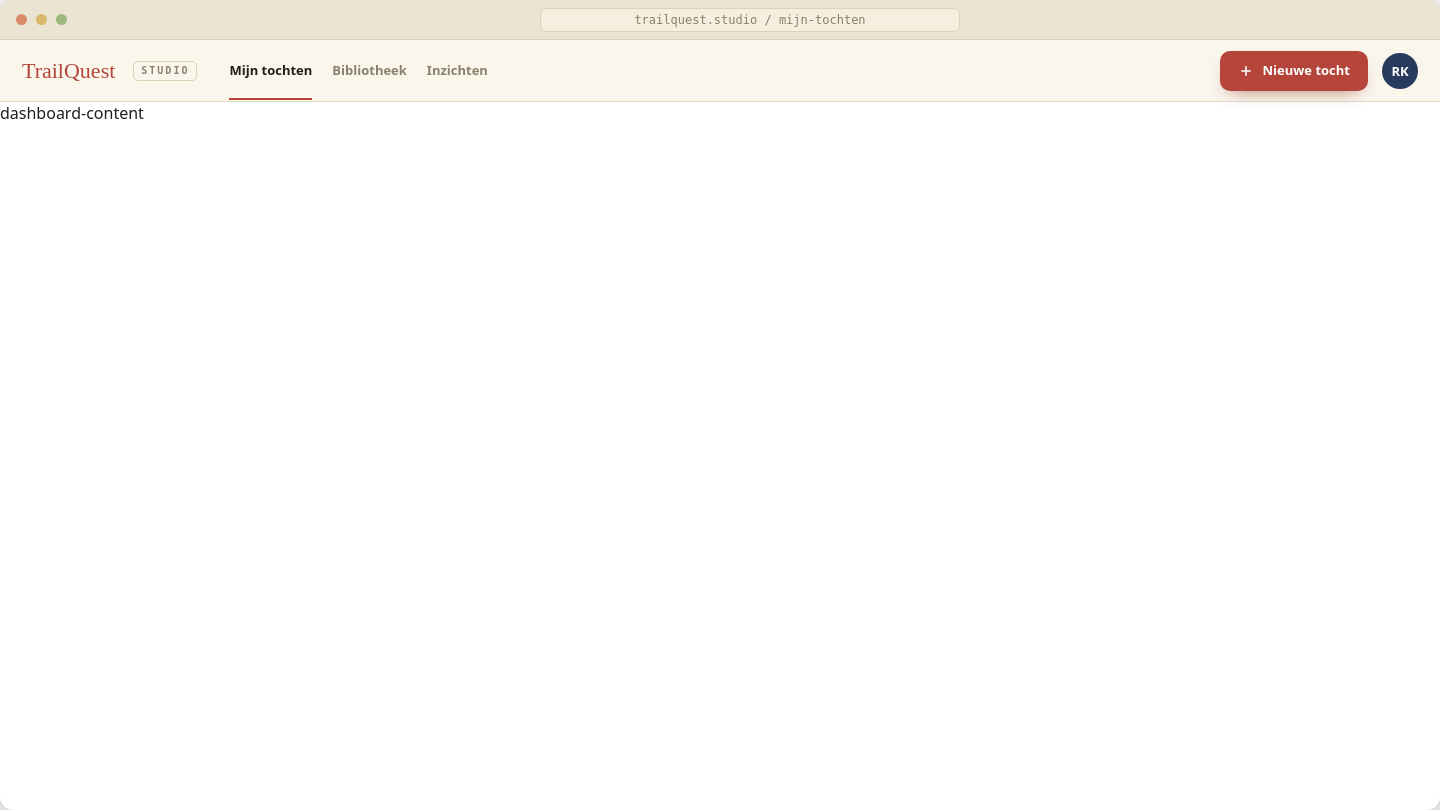
it: clicking Nieuwe tocht opens the NewTrailForm with Plaats input
Click the button "Nieuwe tocht". click: (1294, 70)
box: [1220, 50, 1368, 90]
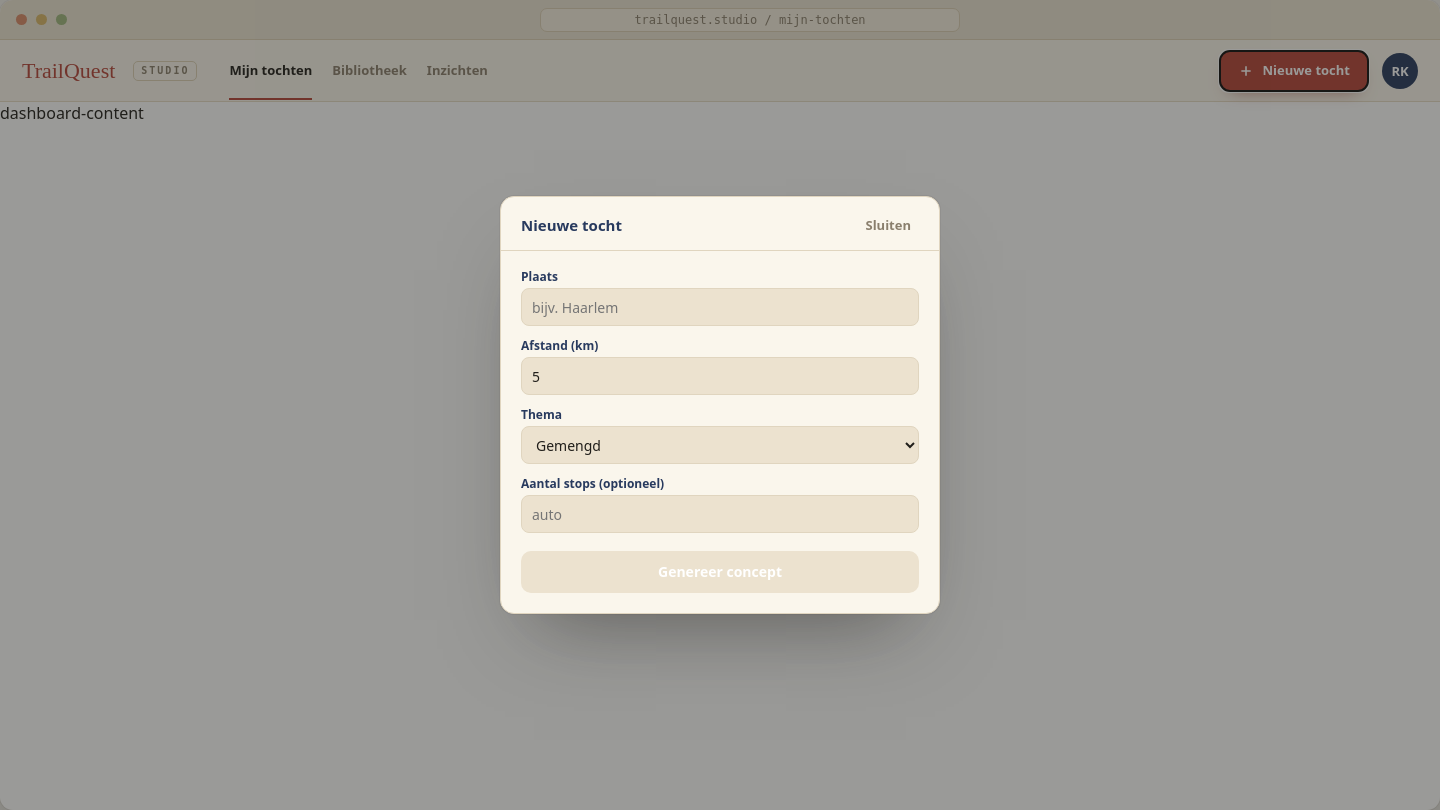
Now the field labelled "Plaats" is shown, box [521, 288, 919, 326]
